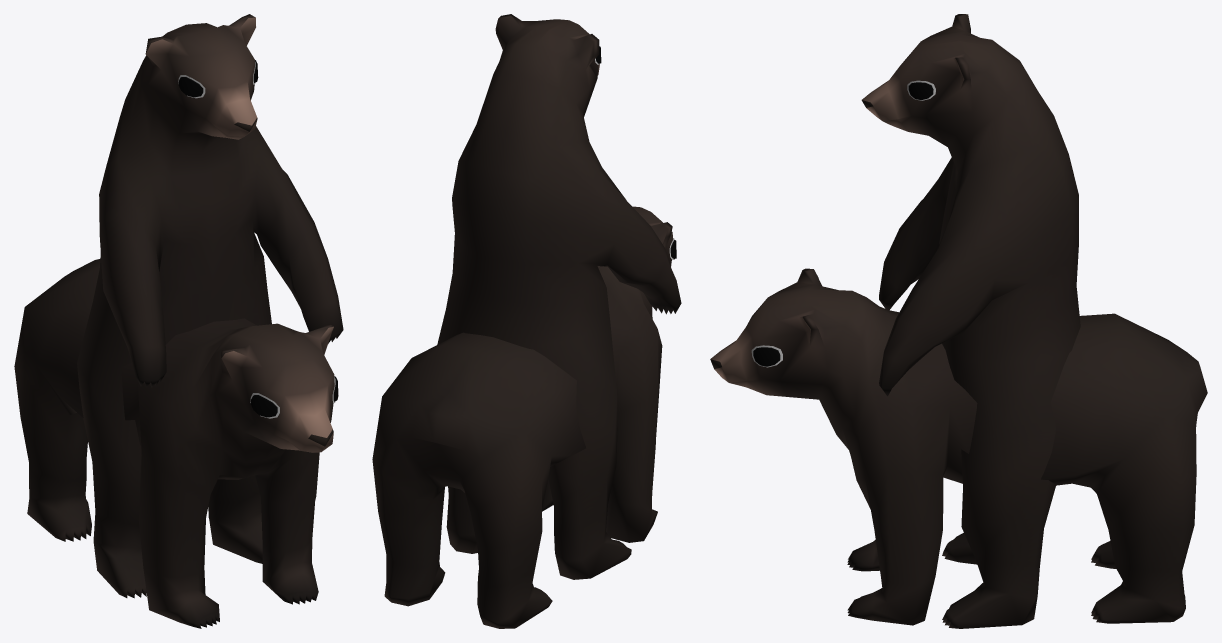
The model's file is BrownBear.fbx.
3 views of the same model, side by side, from view 1: azimuth 30°, elevation 25°; view 2: azimuth 150°, elevation 25°; view 3: azimuth 270°, elevation 25° (orthographic). The views are drawn at different scales.
Visible parts, largest first — view 1: alt576, alt577; view 2: alt576, alt577; view 3: alt576, alt577.
Part boxes in pixels (x1,y1,x2,y2): alt576: (77,14,343,598); alt577: (14,259,338,628); alt576: (437,14,681,579); alt577: (372,206,676,628); alt576: (861,14,1080,628); alt577: (710,268,1207,625).
Size of the model in its own units: 0.9693 by 2.47 by 2.02.
